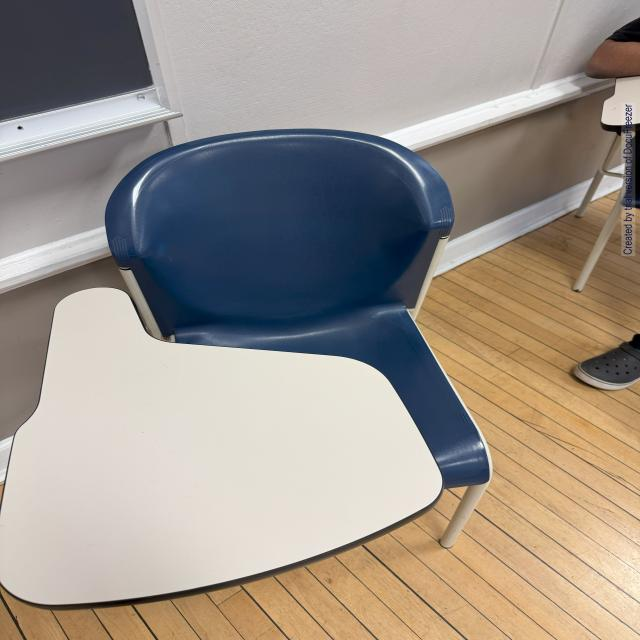chair: (14, 120, 500, 640)
